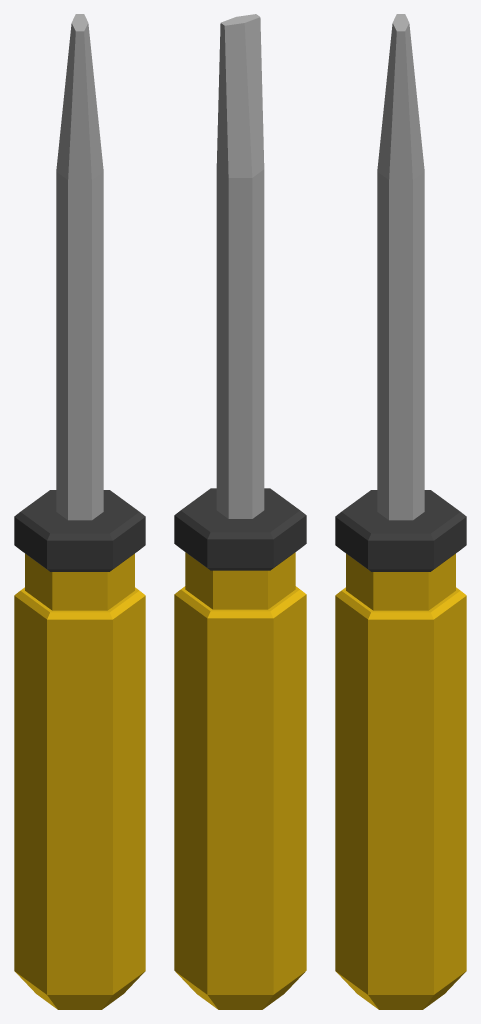
File: Screwdriver.glb
3 views of the same model, side by side, from view 1: azimuth 90°, elevation 25°; view 2: azimuth 210°, elevation 25°; view 3: azimuth 270°, elevation 25° (orthographic).
Parts seen in each view (by area): view 1: Screwdriver; view 2: Screwdriver; view 3: Screwdriver.
Boxes of the visible parts, x1,y1,x2,y2 form: Screwdriver: [14, 14, 145, 1009]; Screwdriver: [174, 14, 306, 1009]; Screwdriver: [335, 14, 466, 1009].
Size of the model in its own units: 6.34 by 59.55 by 7.32.
